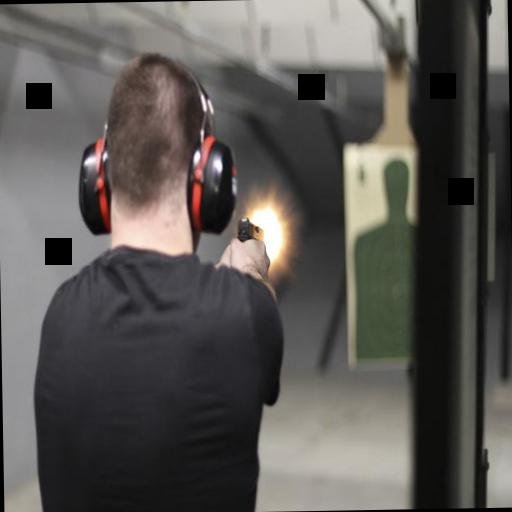Handgun: (230, 214, 268, 266)
